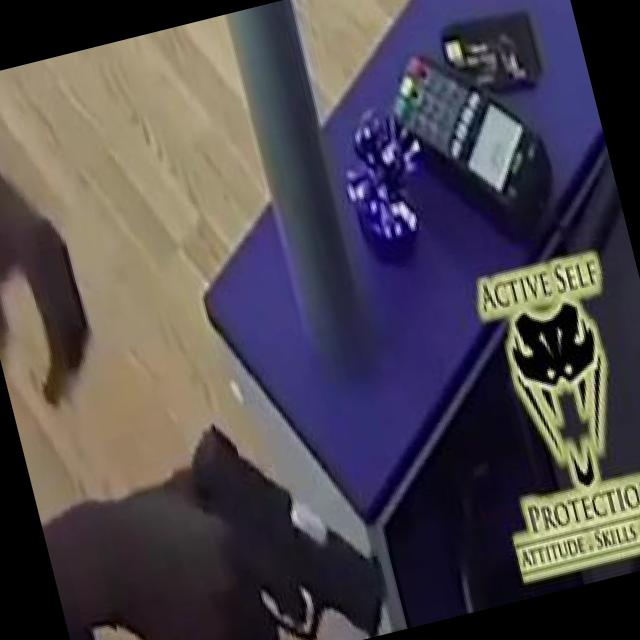Guns: (135, 363, 414, 640)
